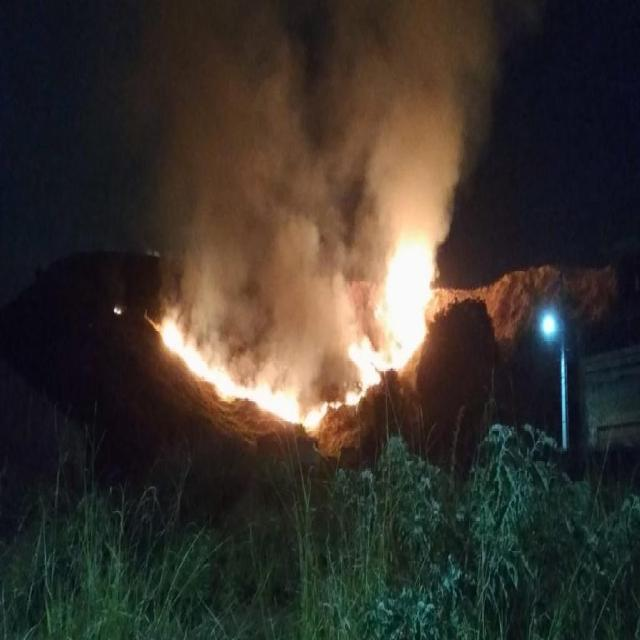Fire: (346, 242, 438, 374), (236, 362, 332, 444), (158, 308, 224, 402)
Smoke: (147, 11, 479, 232)
